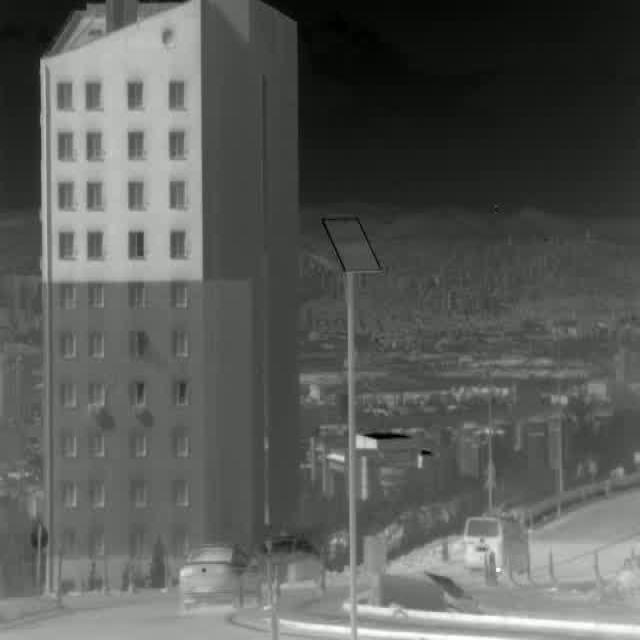Car: (177, 542, 264, 611), (462, 515, 532, 577), (252, 536, 328, 588)
